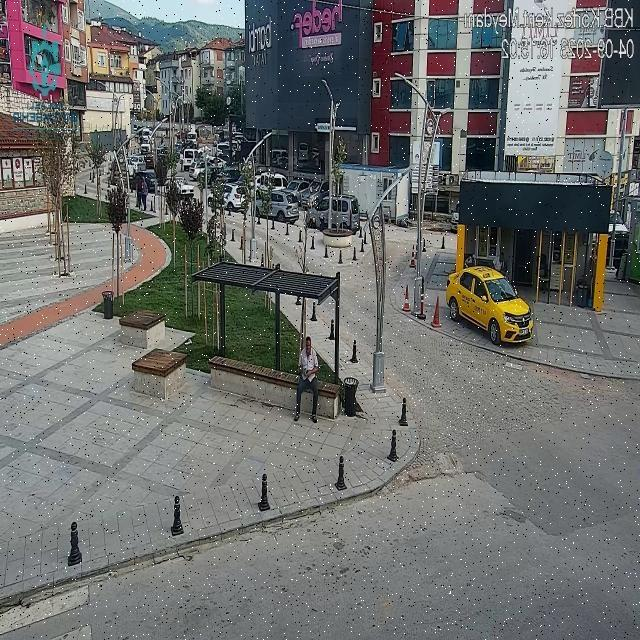Car: (438, 262, 542, 344), (208, 182, 250, 213)
Van: (306, 194, 362, 230), (253, 192, 300, 223)
